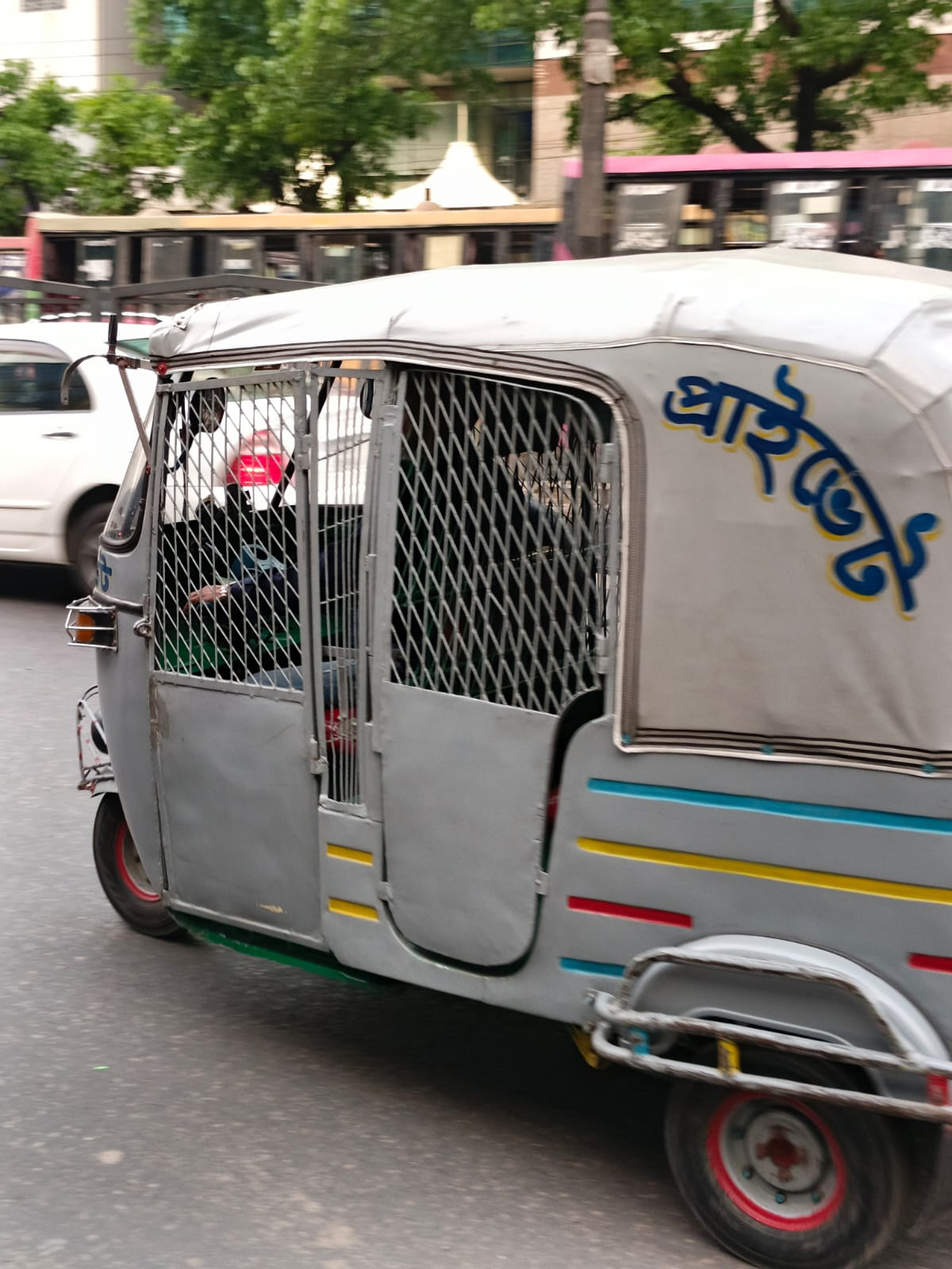Bus: (11, 178, 645, 329), (566, 117, 952, 338)
cng: (0, 183, 952, 1261)
private car: (3, 228, 345, 619)
